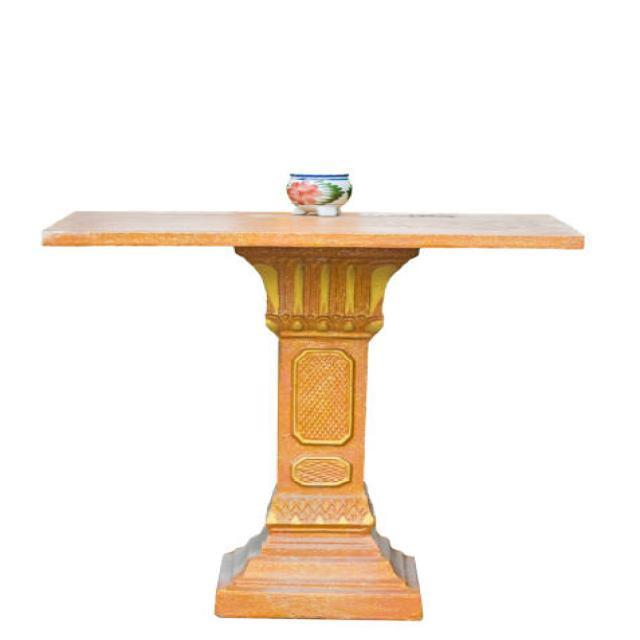table: (40, 209, 585, 621)
